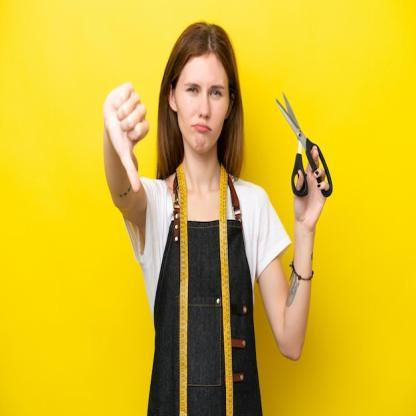thumb_down: (103, 76, 151, 198)
